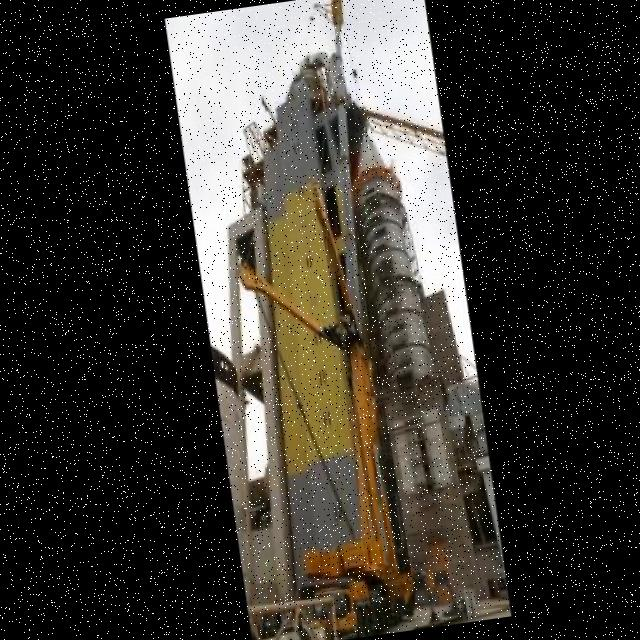Mobile Crane: (194, 0, 427, 640)
